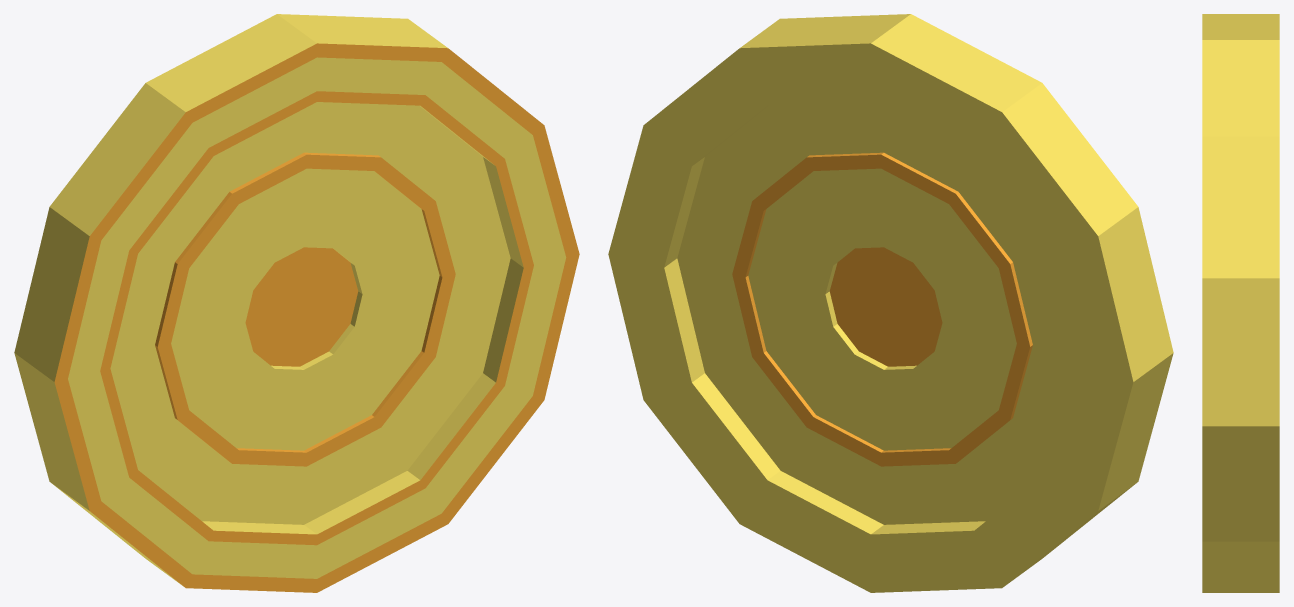
The model's file is coin.fbx.
3 renders of one model, left to right at view 1: azimuth 30°, elevation 25°; view 2: azimuth 150°, elevation 25°; view 3: azimuth 270°, elevation 25°, orthographic. The views are drawn at different scales.
Visible parts, largest first — view 1: coin; view 2: coin; view 3: coin.
Part boxes in pixels (x1,y1,x2,y2): coin: (14,14,579,592); coin: (608,14,1173,592); coin: (1202,14,1279,592).
Size of the model in its own units: 2 by 2 by 0.2653.
